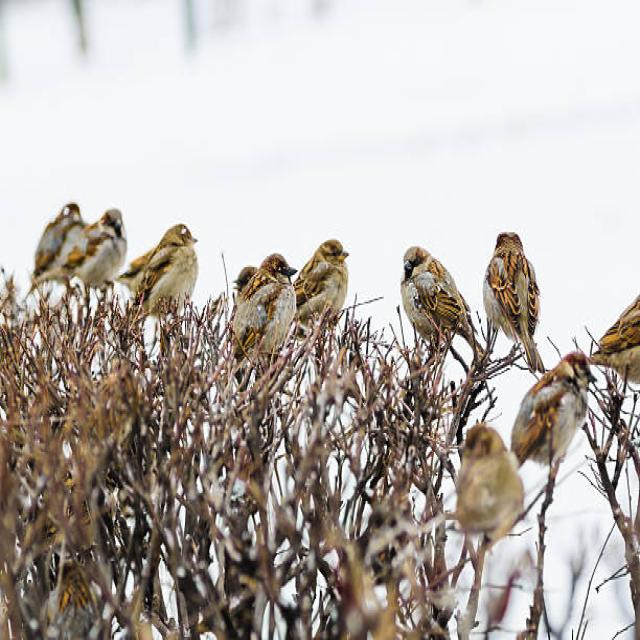bird: (444, 410, 538, 582), (506, 348, 594, 465), (396, 244, 478, 360), (480, 228, 549, 365), (39, 203, 131, 299), (131, 222, 203, 324), (291, 233, 352, 345), (232, 249, 294, 358)
